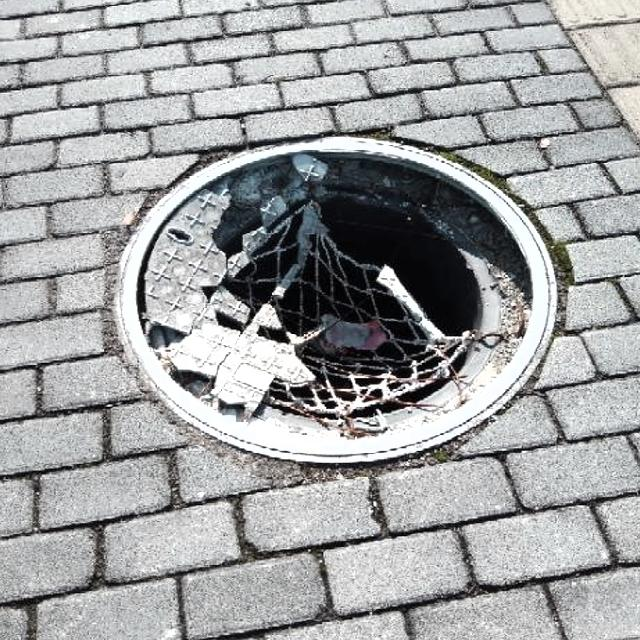broke: (88, 111, 593, 488)
